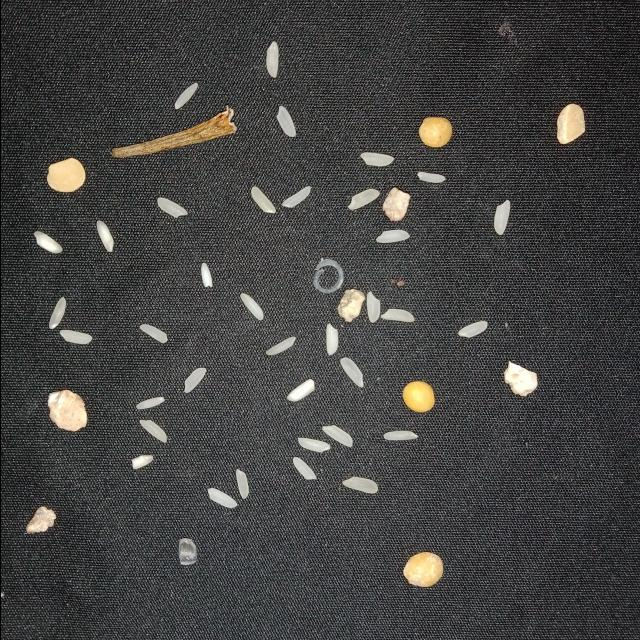Broken: (130, 455, 152, 469)
Full: (339, 358, 363, 388), (347, 188, 379, 210), (250, 187, 276, 214), (286, 378, 315, 402), (321, 425, 352, 447), (138, 419, 166, 443), (239, 293, 263, 321), (280, 186, 310, 208), (341, 476, 377, 494), (276, 106, 296, 138), (33, 232, 62, 254), (173, 83, 197, 109), (156, 198, 187, 218), (292, 456, 316, 481), (206, 488, 236, 508), (265, 336, 295, 356), (493, 200, 509, 236), (48, 296, 66, 328), (95, 220, 113, 252), (138, 324, 166, 344), (183, 368, 205, 393), (379, 308, 414, 322), (457, 322, 487, 338), (359, 152, 393, 166), (375, 229, 409, 243), (296, 438, 330, 452), (58, 330, 92, 344), (366, 291, 380, 323), (266, 41, 278, 78), (234, 468, 248, 498), (326, 323, 338, 355), (382, 430, 418, 440), (416, 172, 444, 184), (136, 398, 163, 410), (200, 262, 212, 288)
